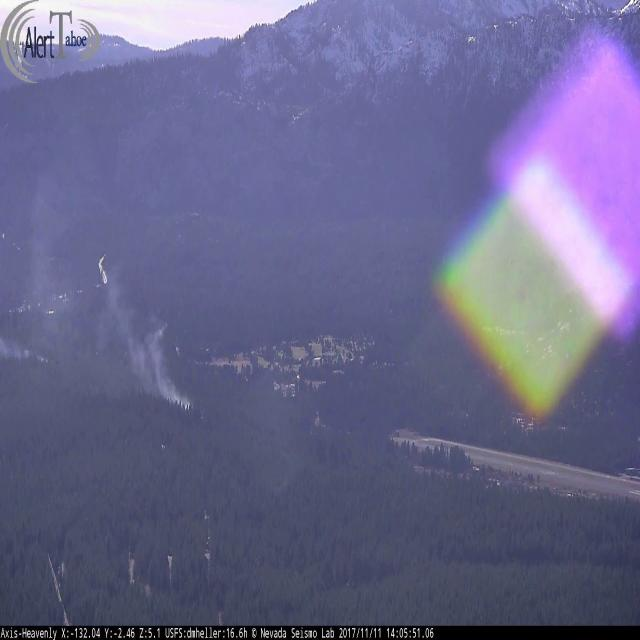smoke: (3, 165, 192, 411)
